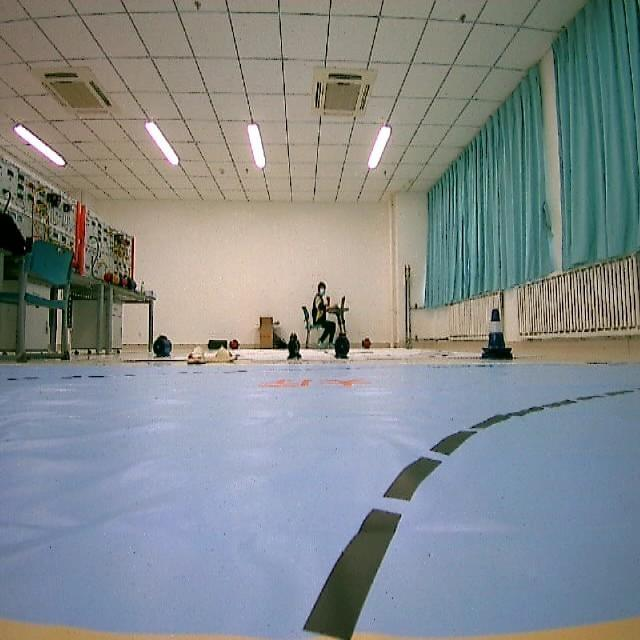obstacle: (478, 296, 520, 372)
